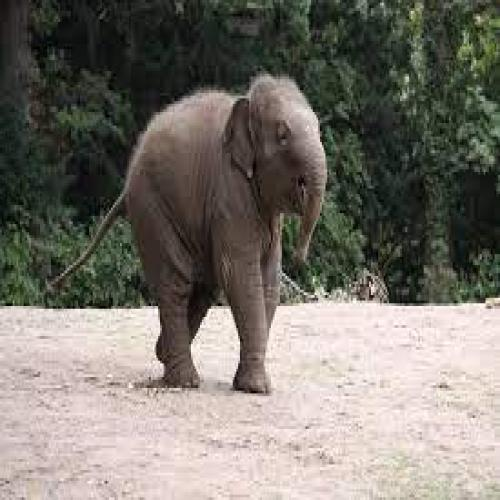asian_elephant-endangered: (48, 73, 329, 405)
